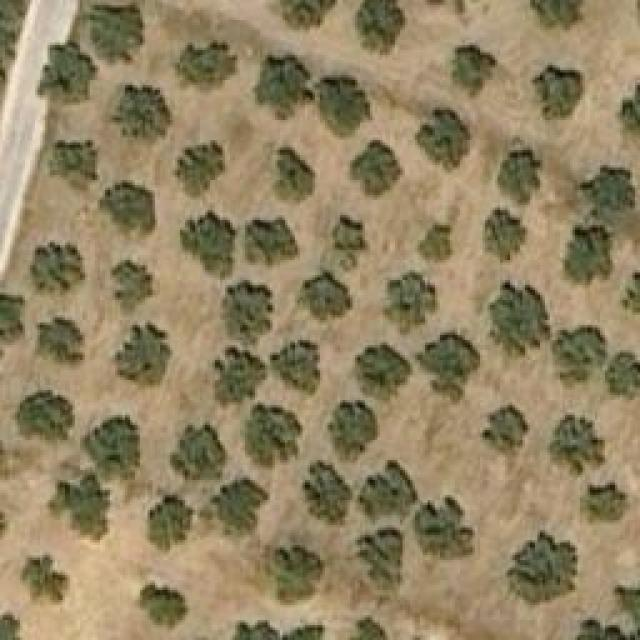Tree: (508, 530, 578, 605), (485, 278, 548, 361), (415, 333, 480, 403), (48, 475, 113, 540), (548, 415, 608, 485), (255, 52, 315, 120), (243, 405, 303, 468), (38, 40, 98, 103), (417, 498, 475, 561), (170, 40, 238, 93), (213, 473, 268, 538), (383, 270, 438, 335), (183, 210, 238, 275), (115, 325, 173, 385), (550, 325, 608, 385), (355, 342, 413, 400), (223, 278, 276, 341), (263, 545, 323, 600), (90, 3, 145, 63), (302, 460, 350, 528), (100, 180, 158, 235), (170, 422, 225, 480), (110, 85, 170, 138), (358, 465, 411, 525), (328, 400, 378, 463), (173, 140, 226, 198), (350, 140, 403, 198), (82, 418, 140, 471), (315, 75, 370, 130), (415, 110, 470, 165), (215, 345, 265, 405), (30, 243, 85, 296), (533, 65, 583, 123), (17, 390, 75, 440), (270, 337, 320, 395), (357, 530, 405, 590), (565, 227, 613, 285), (355, 0, 405, 55), (35, 318, 85, 373), (138, 580, 191, 630), (450, 45, 498, 100), (480, 208, 528, 263), (298, 272, 353, 320), (498, 147, 543, 205), (273, 145, 316, 205), (482, 405, 530, 458), (148, 495, 193, 550), (50, 140, 98, 190), (245, 218, 298, 263), (580, 168, 635, 211), (0, 0, 28, 80), (228, 620, 338, 640), (22, 558, 70, 603), (110, 260, 153, 310), (332, 215, 370, 270), (580, 483, 630, 523), (605, 350, 640, 403), (280, 0, 338, 30), (530, 0, 583, 28), (617, 80, 640, 137), (418, 225, 451, 263), (0, 290, 25, 338), (417, 0, 495, 15), (615, 587, 640, 625), (350, 617, 387, 640), (622, 273, 640, 313), (0, 612, 22, 639)
